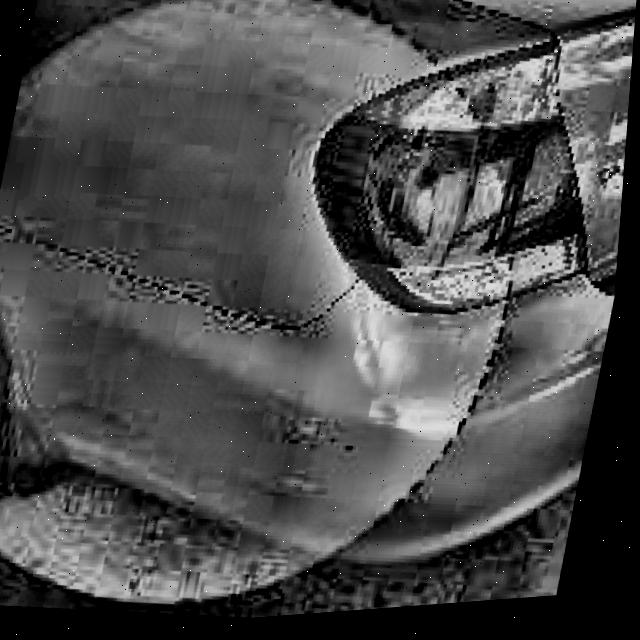bumper_scratch: (275, 402, 372, 471)
